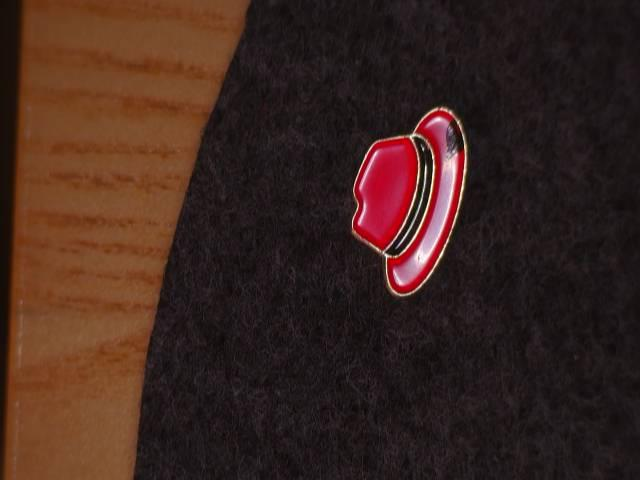Red-Hat: (339, 82, 501, 320)
Scratch: (434, 105, 482, 167)
